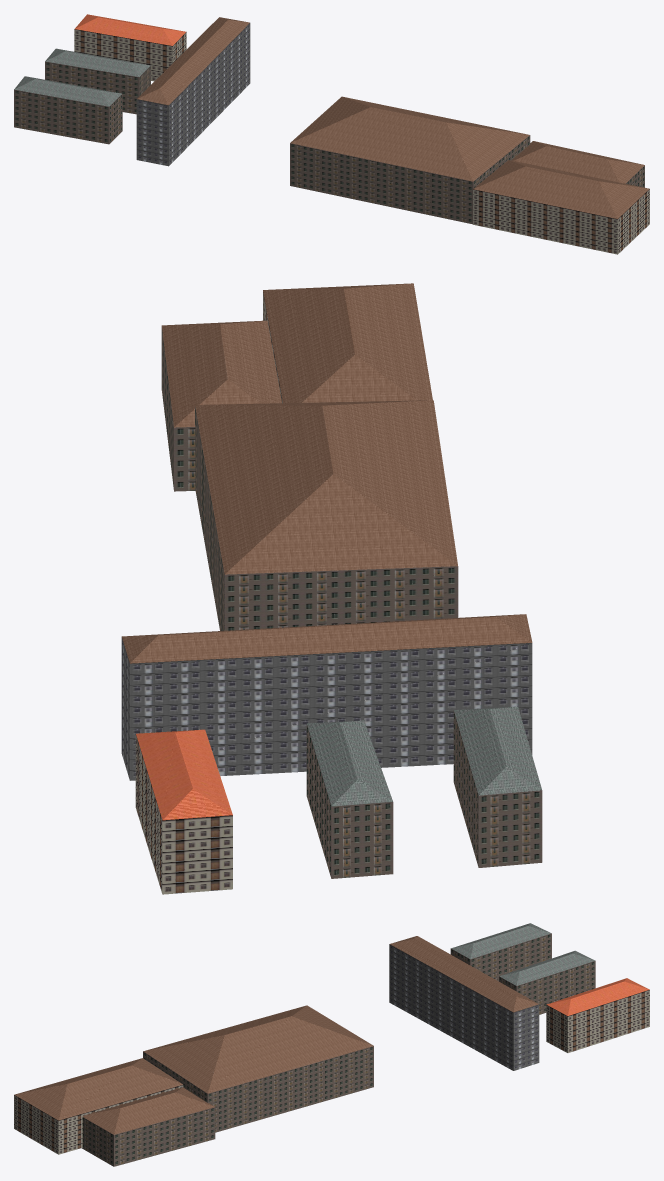
Rendered from EdificiosGrupo1.FBX.
The picture shows the model from 3 angles, top to bottom: view 1: azimuth 30°, elevation 25°; view 2: azimuth 150°, elevation 25°; view 3: azimuth 270°, elevation 25°; orthographic projection. The views are drawn at different scales.
Visible parts, largest first — view 1: Model40, Model10, Model36, Model39, Model, Model38, Model29; view 2: Model40, Model36, Model10, Model, Model39, Model29, Model38; view 3: Model40, Model36, Model10, Model29, Model, Model39, Model38.
Boxes of the visible parts, box(x1,y1,x2,y2) form: Model40: box(290, 96, 530, 224); Model10: box(473, 160, 649, 254); Model36: box(136, 17, 250, 166); Model39: box(14, 76, 122, 144); Model: box(74, 14, 186, 81); Model38: box(45, 48, 150, 114); Model29: box(511, 141, 644, 187); Model40: box(195, 400, 458, 630); Model36: box(121, 614, 532, 780); Model10: box(263, 283, 432, 403); Model: box(135, 729, 232, 894); Model39: box(453, 706, 542, 867); Model29: box(161, 320, 281, 491); Model38: box(306, 720, 393, 878); Model40: box(143, 1005, 373, 1132); Model36: box(389, 936, 539, 1070); Model10: box(14, 1058, 183, 1154); Model29: box(82, 1087, 215, 1166); Model: box(546, 978, 649, 1052); Model39: box(450, 923, 551, 981); Model38: box(499, 950, 595, 1014).
Size of the model in its own units: 24419 by 4292 by 33743.
